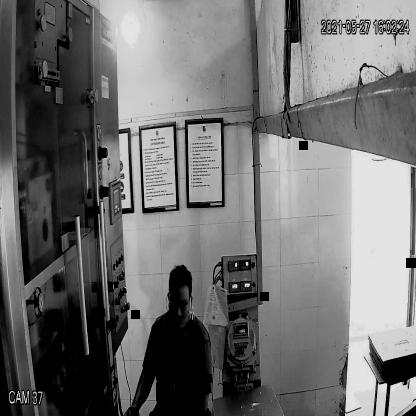goggles: (165, 291, 193, 316)
